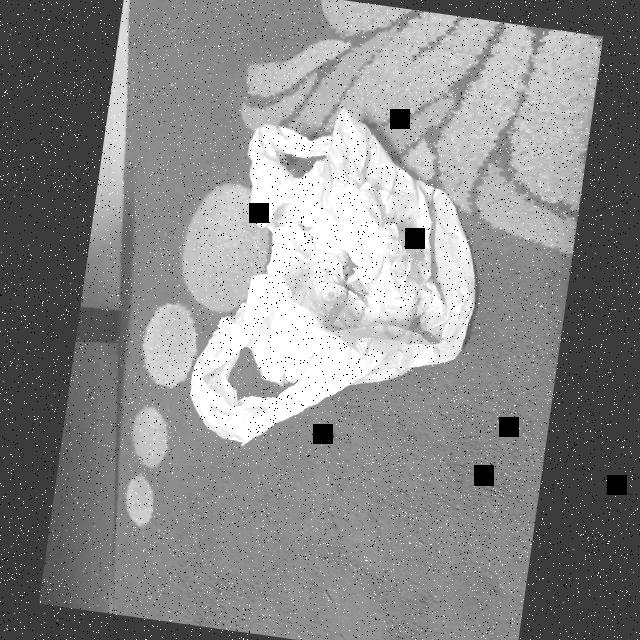plastic_bag: (168, 92, 511, 490)
